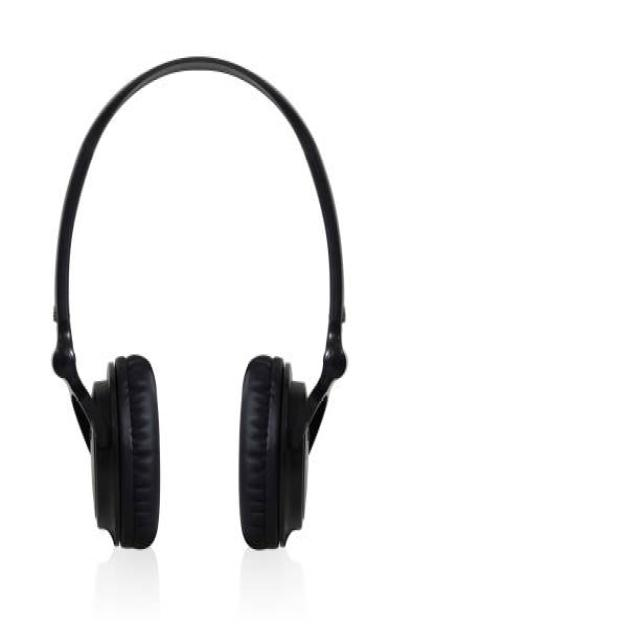Ear-protection: (35, 42, 372, 563)
